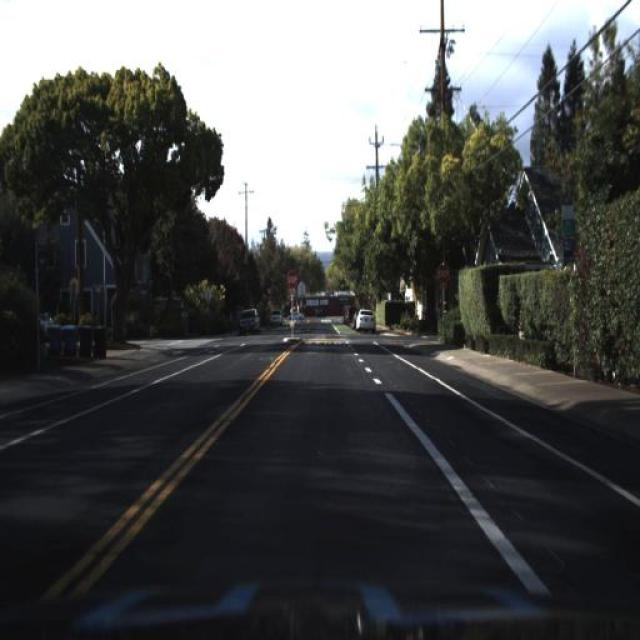car: (353, 305, 376, 333), (237, 306, 259, 335)
